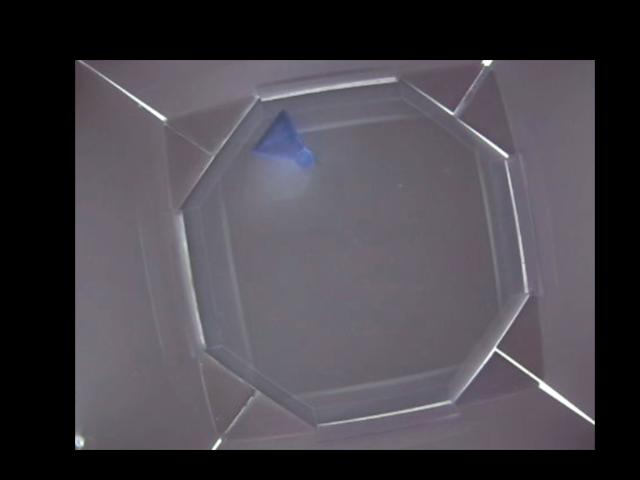Mooli: (253, 110, 314, 168)
